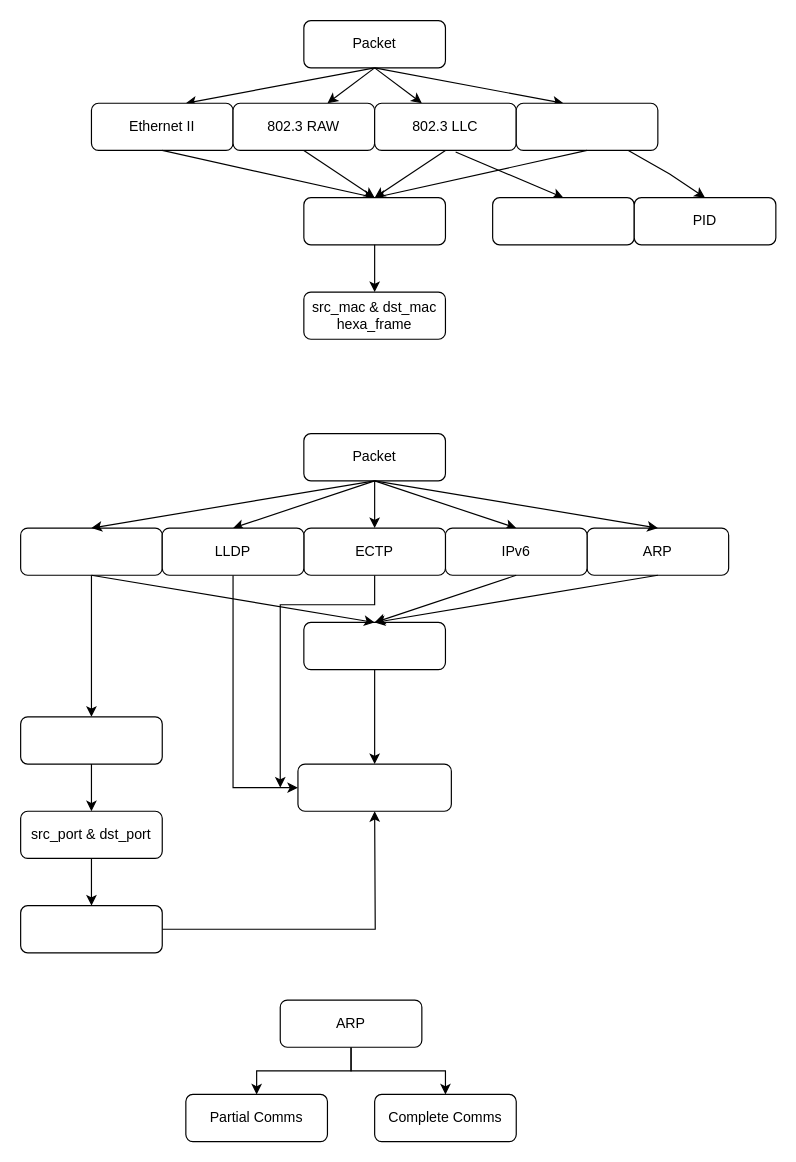
Image size: 796x1162. Some labels were removed from this diagram. Here are the shapes that lost their labels. From the top down, the centre of each, then its label:
At [586,126]: "802.3 LLC & SNAP".
At [374,220]: "len_frame_pcap len_frame_medium".
At [562,220]: "SAP".
At [90,551]: "IPv4".
At [374,645]: "src_ip & dst_ip".
At [90,740]: "inner_protocol".
At [374,787]: "count IPs get_max_packets_sent".
At [90,928]: "app_protocol".
